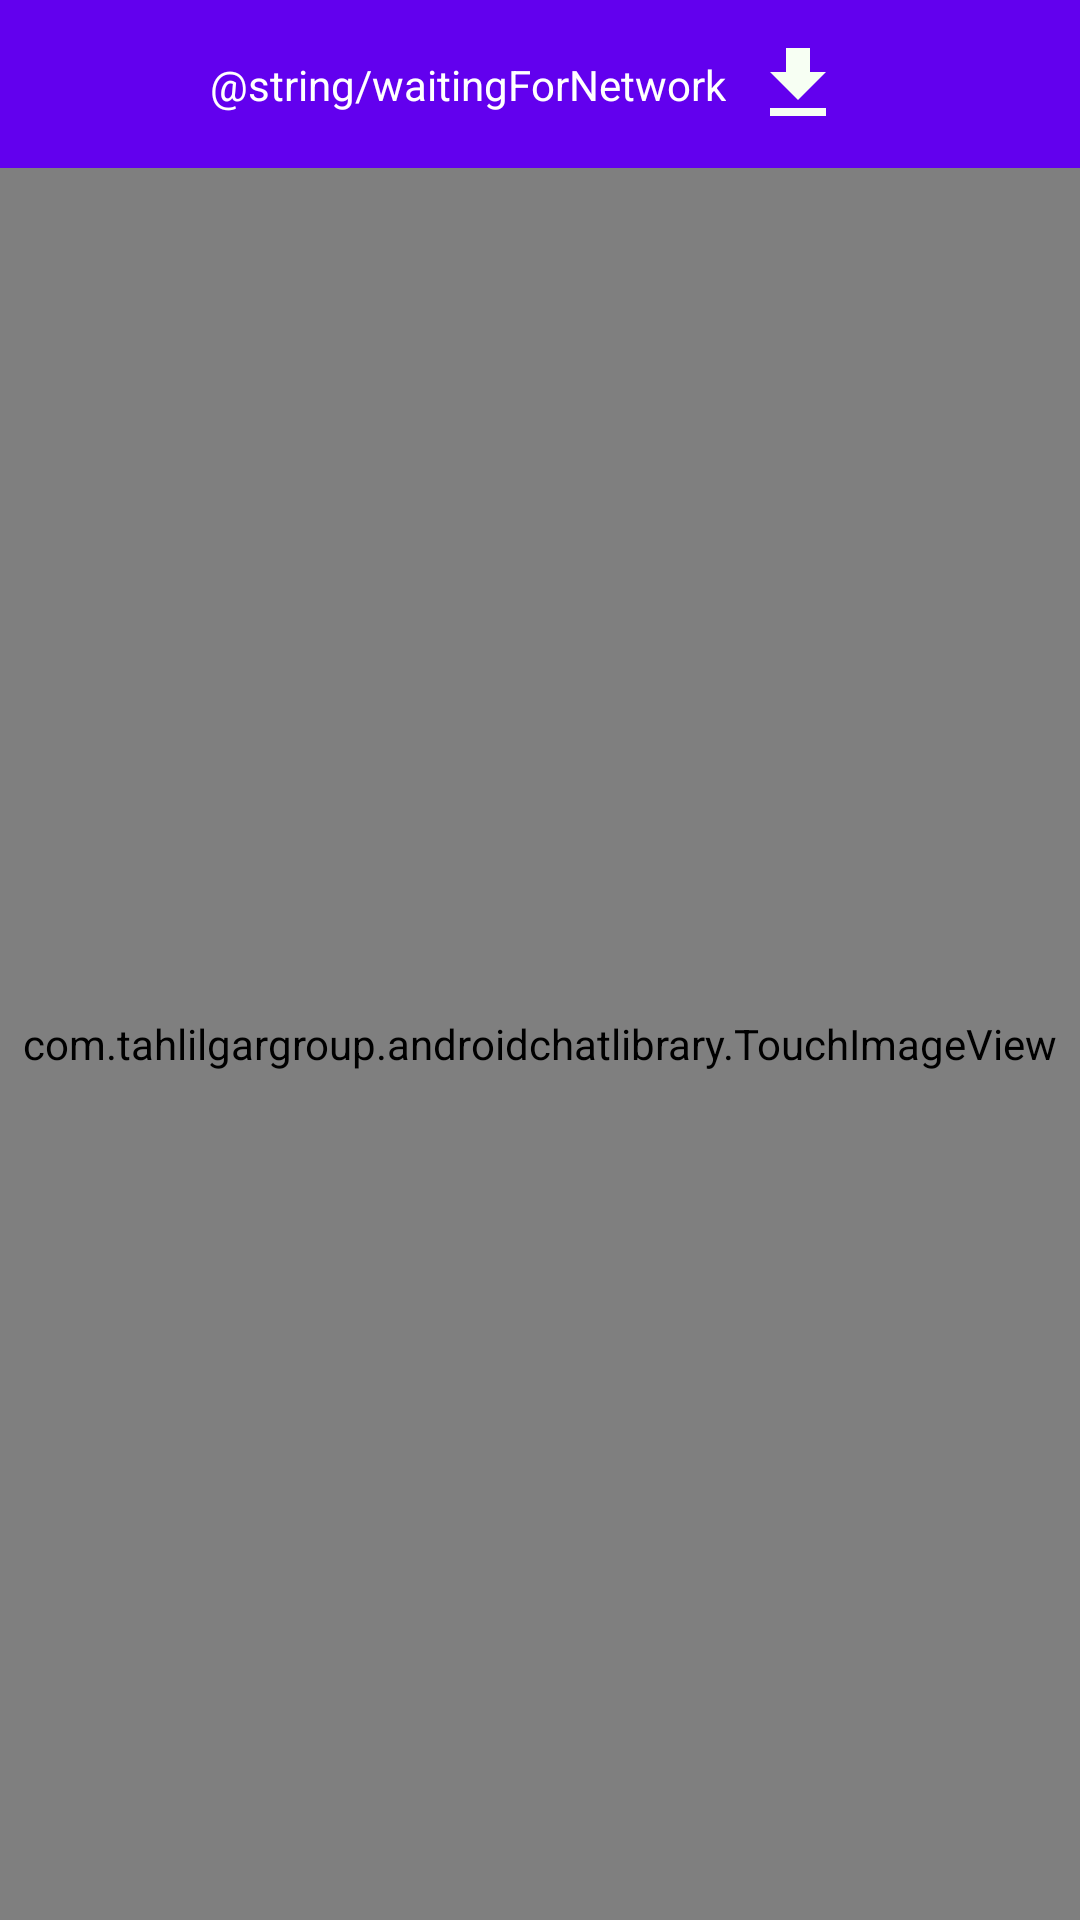

Where icons sit on this 1080w x 1920h app screen, as box=[x1, y1, x2, y2]:
download: box=[770, 48, 826, 116]
